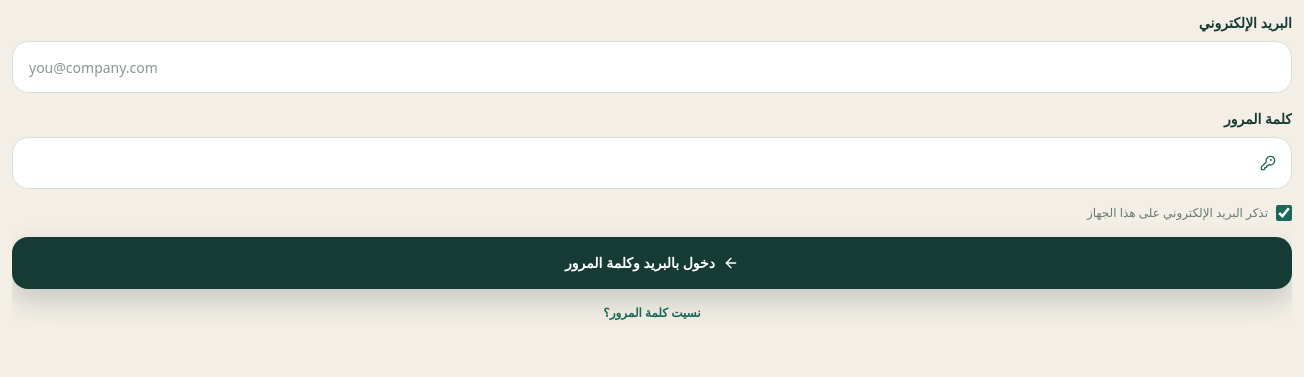
it: PasswordSignInForm › shows generic invalid-credential feedback and does not navigate
In the field labelled "البريد الإلكتروني": (652, 67) [12,41,1292,93], type "operator@voya.example"
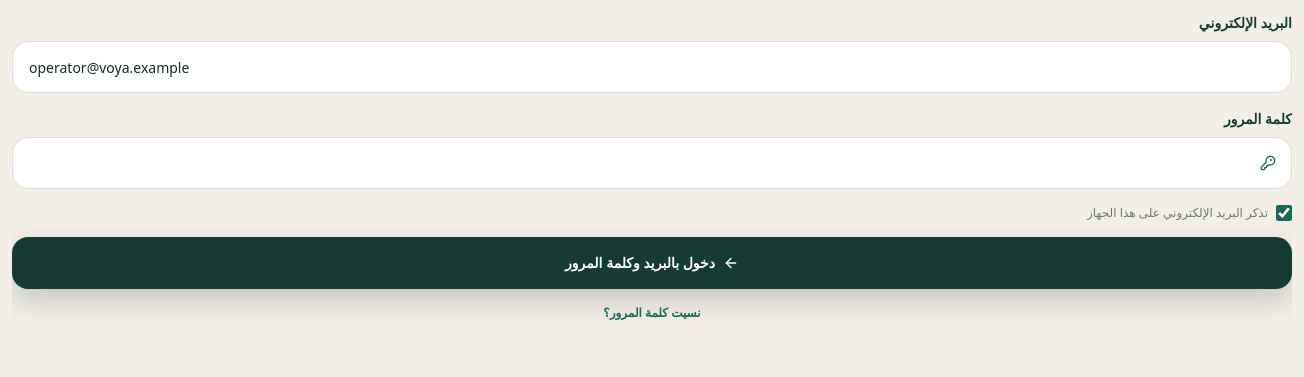
In the password field labelled "كلمة المرور": (652, 163) [12,137,1292,189], type "wrong"
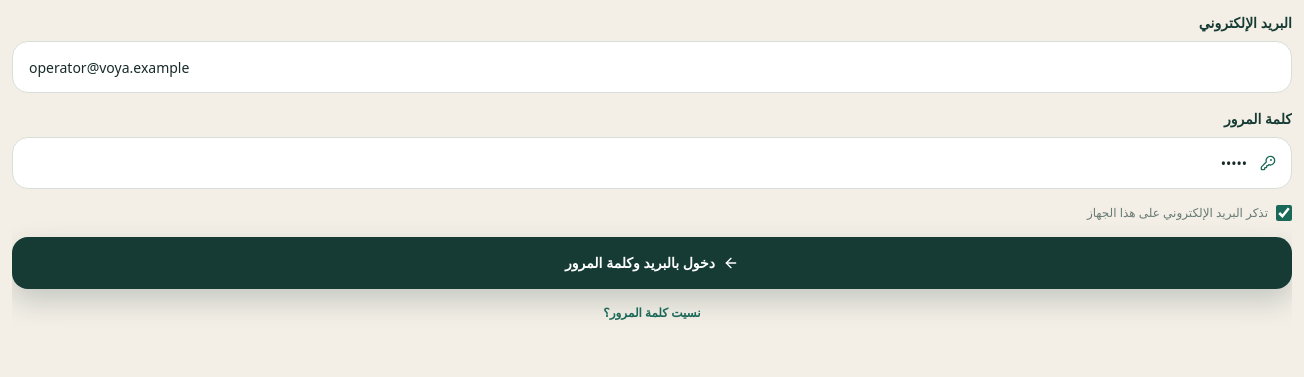
Click the button "دخول بالبريد وكلمة المرور": (652, 263) [12,237,1292,289]
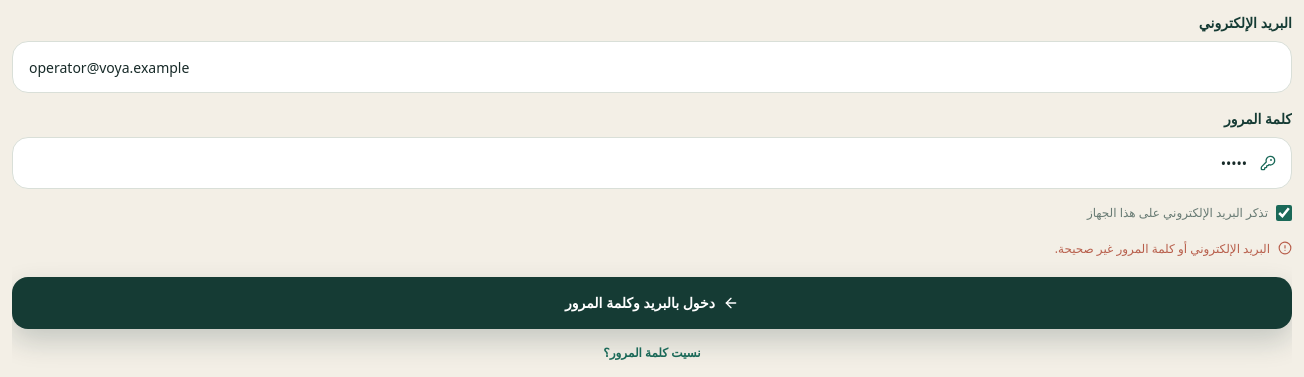
expect the text "البريد الإلكتروني أو كلمة المرور غير صحيحة." is shown: met, box [1055,240,1292,257]
